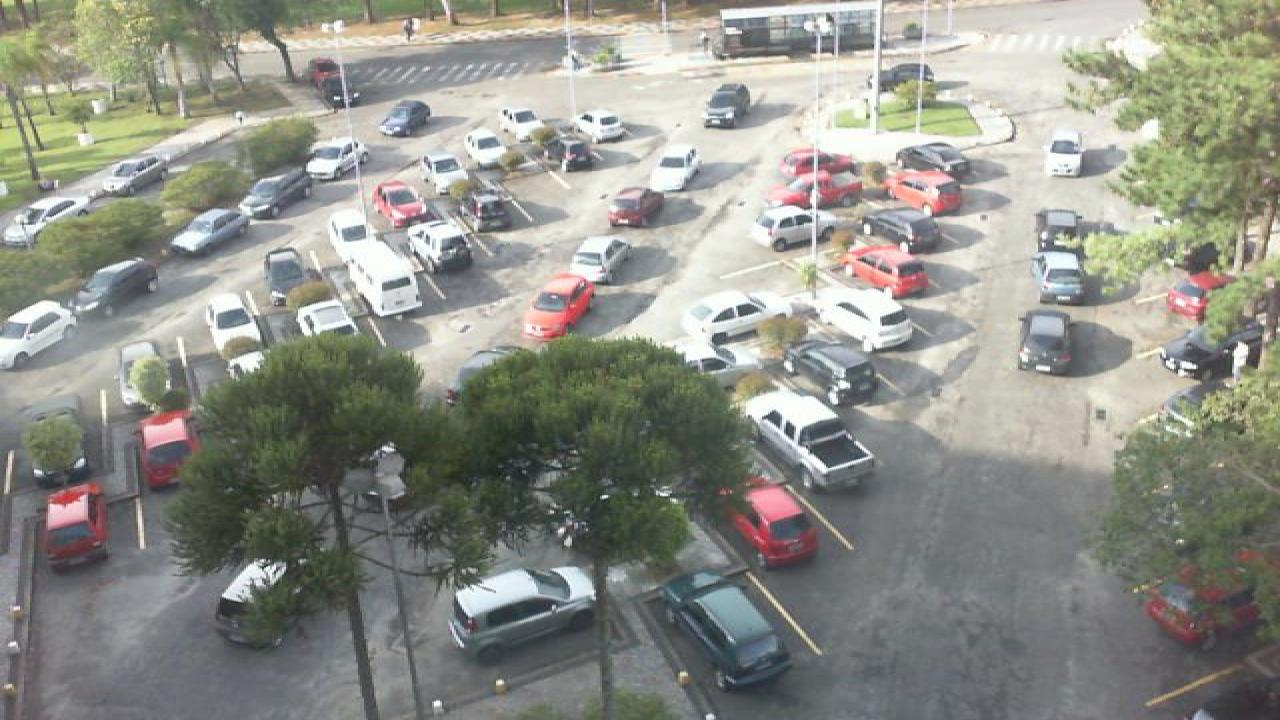Car: (658, 567, 796, 693), (444, 564, 602, 662), (738, 391, 878, 492), (1136, 566, 1254, 648), (724, 476, 822, 569), (206, 558, 302, 651), (802, 284, 914, 352), (678, 288, 790, 351), (34, 480, 112, 570), (780, 339, 882, 406), (336, 243, 426, 317), (136, 403, 204, 489), (0, 298, 80, 371), (70, 255, 162, 318), (746, 202, 852, 254), (26, 408, 94, 488), (520, 272, 598, 341), (0, 194, 92, 250), (204, 287, 270, 361), (838, 245, 928, 298), (1156, 323, 1234, 380), (164, 208, 254, 257), (880, 167, 968, 217), (1162, 266, 1236, 322), (1016, 308, 1074, 376), (766, 174, 868, 212), (860, 207, 942, 252), (470, 181, 536, 236), (406, 221, 474, 274), (236, 173, 314, 219), (670, 339, 742, 388), (292, 299, 364, 348), (568, 235, 634, 285), (1034, 249, 1090, 306), (302, 135, 370, 181), (96, 155, 170, 197), (370, 178, 428, 229), (774, 148, 858, 182), (896, 140, 974, 176), (604, 184, 666, 229), (262, 248, 314, 300), (642, 148, 702, 192), (1034, 209, 1090, 256), (700, 81, 752, 129), (420, 150, 474, 194), (1044, 128, 1088, 179), (538, 134, 598, 171), (460, 129, 514, 169), (866, 62, 938, 92), (324, 209, 374, 252), (572, 107, 628, 145), (380, 99, 432, 137), (496, 103, 542, 135)
